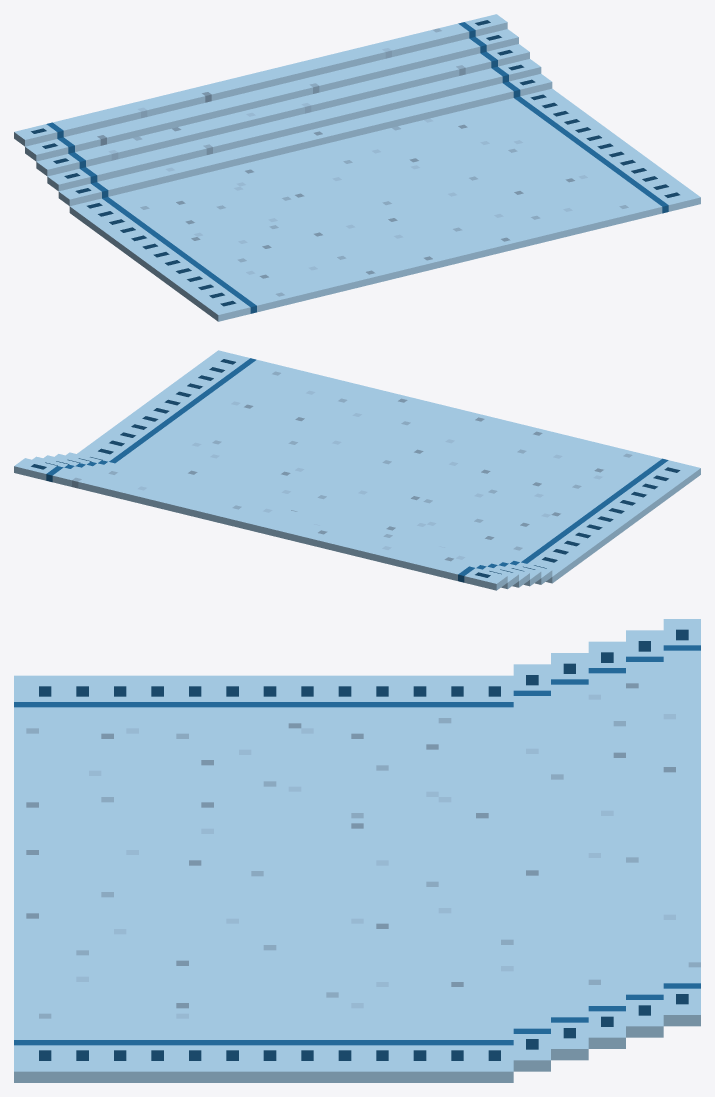
Rendered from ramp-0.obj.
The picture shows the model from 3 angles, top to bottom: view 1: azimuth 30°, elevation 25°; view 2: azimuth 150°, elevation 25°; view 3: azimuth 270°, elevation 25°; orthographic projection. The views are drawn at different scales.
Visible parts, largest first — view 1: ramp-0; view 2: ramp-0; view 3: ramp-0.
Boxes of the visible parts, <box> form: ramp-0: <box>14,14,700,321</box>; ramp-0: <box>14,350,700,590</box>; ramp-0: <box>14,619,700,1082</box>.
Size of the model in its own units: 75 by 6 by 55.
1 material, 1 textured.
